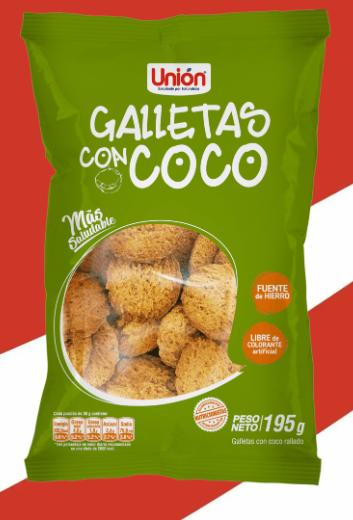brand: (142, 65, 214, 91)
net_weight: (264, 406, 308, 439)
product_name: (70, 97, 282, 199)
